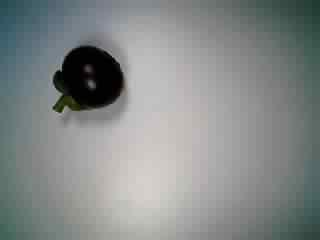mangosteen: (44, 41, 126, 115)
